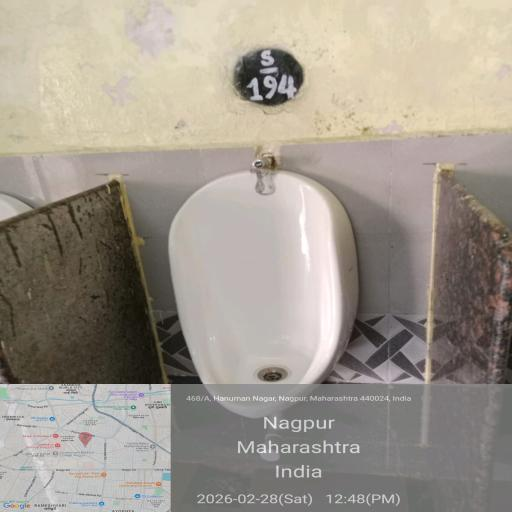clean_floor: (6, 0, 284, 140), (10, 158, 170, 376), (376, 152, 497, 385)
clean_urinal: (183, 164, 344, 384)
partial_dirty_floor: (286, 68, 503, 158)
